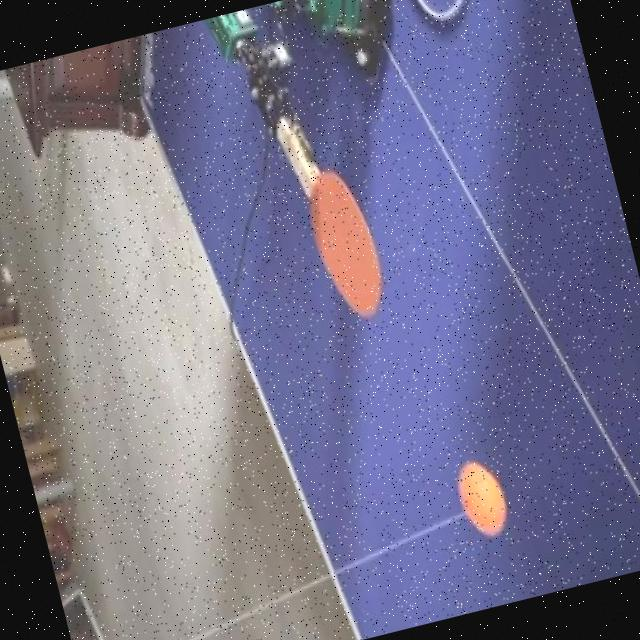ping-pong-ball: (450, 456, 509, 540)
